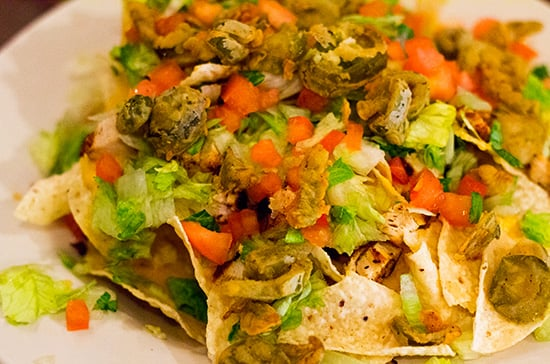curry: (109, 41, 161, 86)
